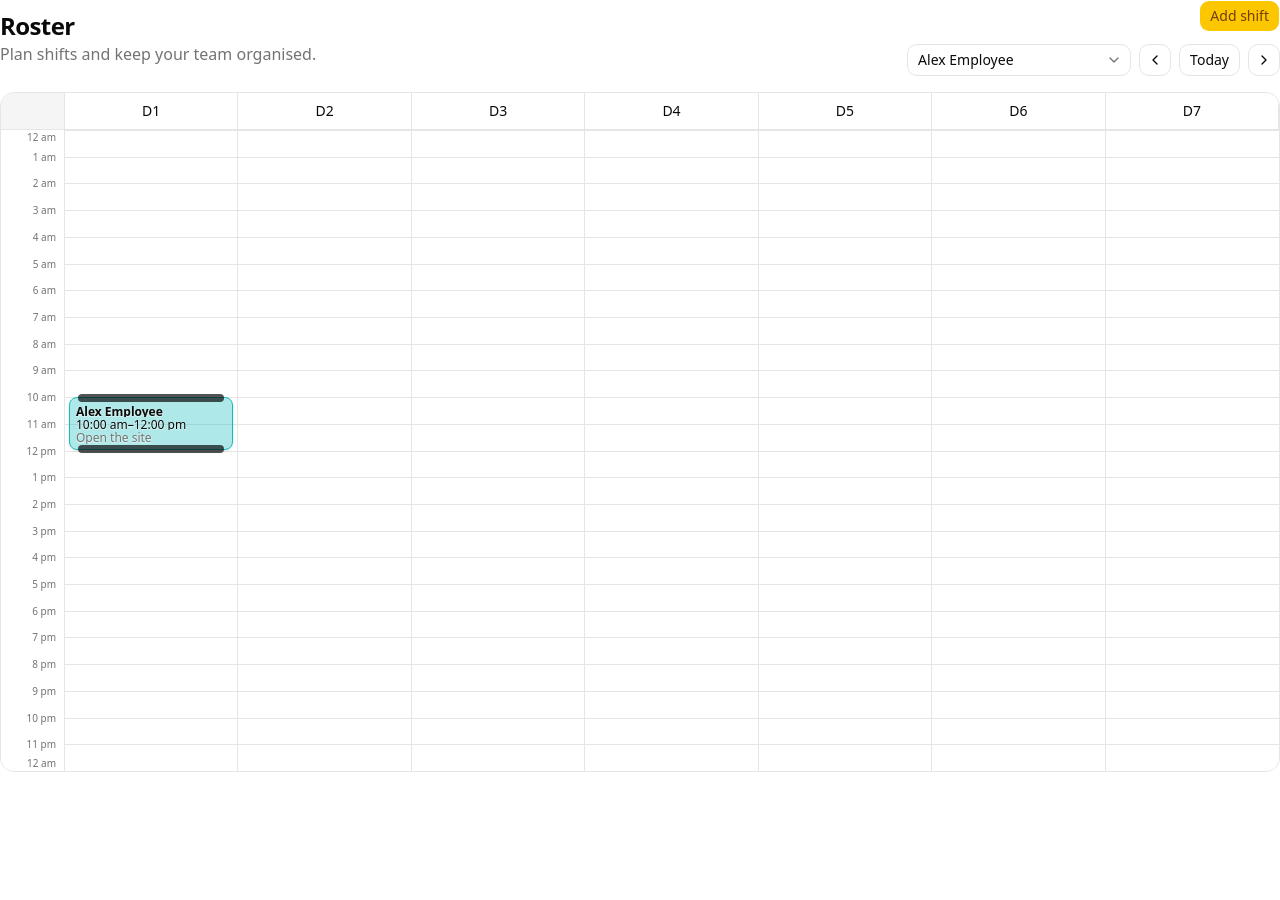
Scenario: RosterCalendar › filters the Team week and preselects that employee for creation
Check: the dropdown named "Filter employee" shows "Alex Employee", box [907,44,1131,76]
Press the mouse on the element named "Day 2 team shift canvas": (325,450) [238,130,411,771]
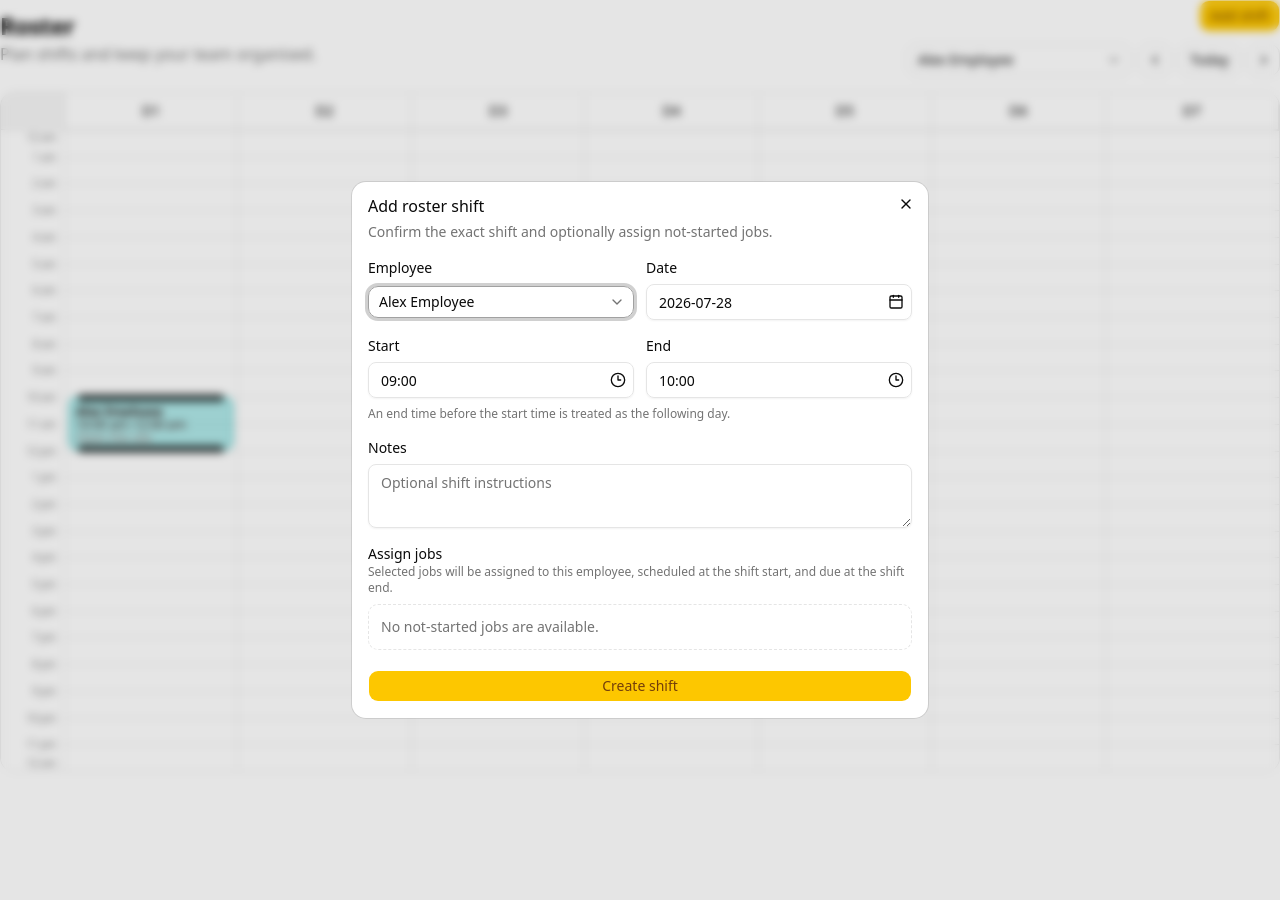
Check: the field labelled "Date" holds "2026-07-28", box [646,284,912,320]
Check: the dropdown labelled "Employee" shows "Alex Employee", box [368,286,634,318]
